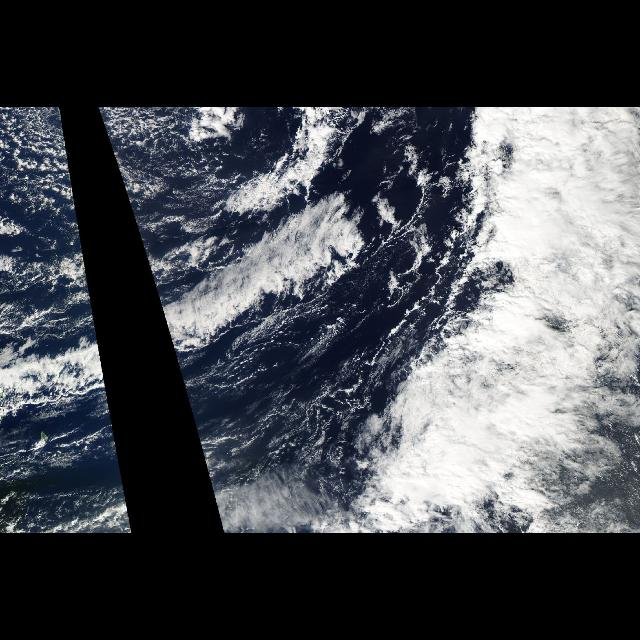Fish: (118, 169, 380, 425), (1, 169, 114, 425)
Gravel: (98, 109, 232, 223), (2, 109, 80, 223)
Sugar: (105, 127, 218, 301), (3, 127, 91, 301)
